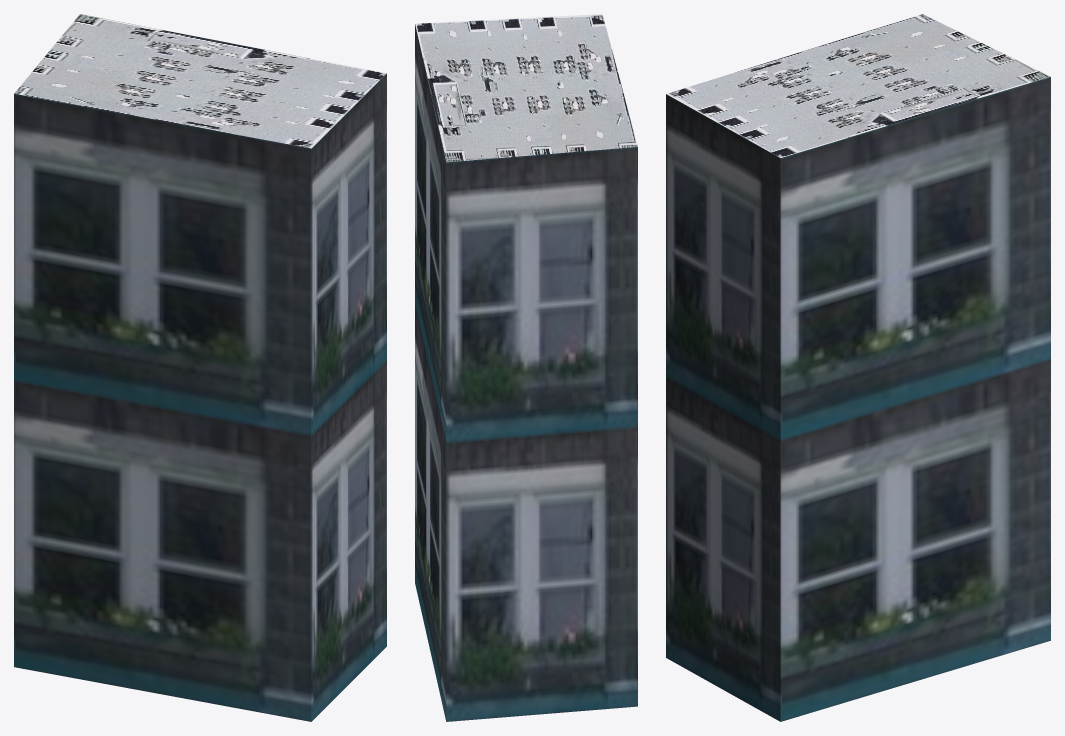
Rendered from ResTex__38.fbx.
3 renders of one model, left to right at view 1: azimuth 30°, elevation 25°; view 2: azimuth 150°, elevation 25°; view 3: azimuth 270°, elevation 25°, orthographic. The views are drawn at different scales.
Visible parts, largest first — view 1: CityEngineMaterial_11_m, CityEngineMaterial_8_m; view 2: CityEngineMaterial_11_m, CityEngineMaterial_8_m; view 3: CityEngineMaterial_11_m, CityEngineMaterial_8_m.
Part boxes in pixels (x1,y1,x2,y2): CityEngineMaterial_11_m: (14, 73, 386, 721); CityEngineMaterial_8_m: (14, 14, 386, 148); CityEngineMaterial_11_m: (415, 24, 637, 721); CityEngineMaterial_8_m: (415, 14, 637, 162); CityEngineMaterial_11_m: (666, 77, 1050, 721); CityEngineMaterial_8_m: (666, 14, 1050, 157).
Bounding box in the file's own units: 3.29 × 6 × 3.71.
2 materials, 2 textured.
